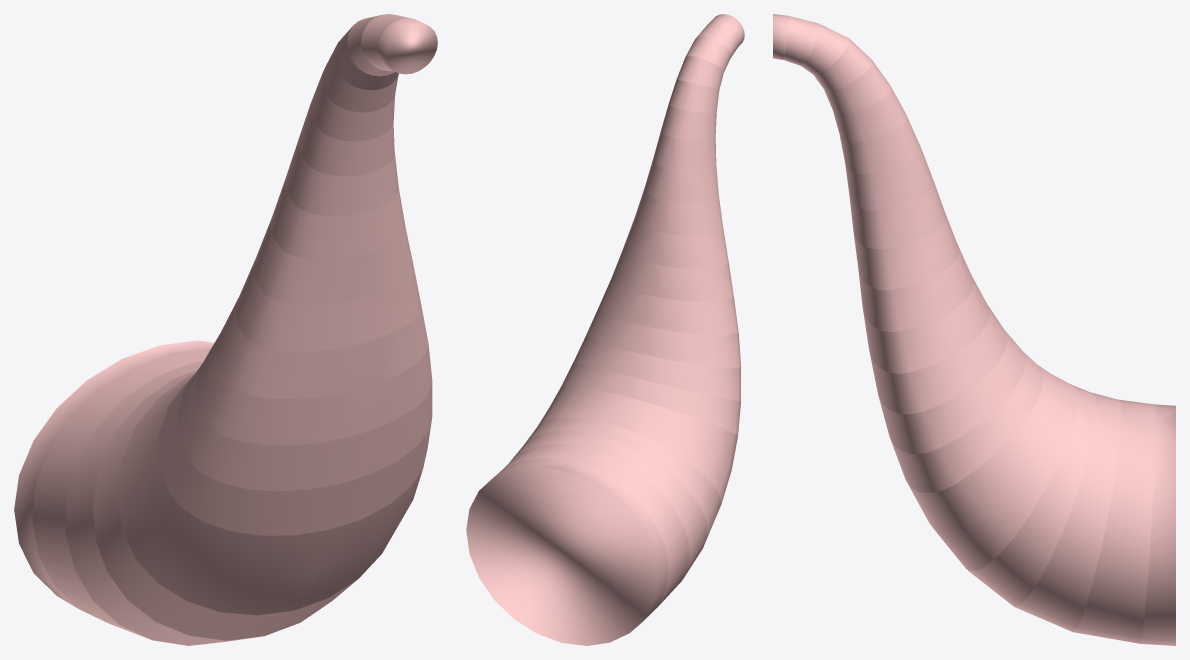
The model's file is original-2.obj.
3 renders of one model, left to right at view 1: azimuth 30°, elevation 25°; view 2: azimuth 150°, elevation 25°; view 3: azimuth 270°, elevation 25°, orthographic. The views are drawn at different scales.
Visible parts, largest first — view 1: Group2/mesh1/mesh1-geometry#mesh1-geometry; view 2: Group2/mesh1/mesh1-geometry#mesh1-geometry; view 3: Group2/mesh1/mesh1-geometry#mesh1-geometry.
Boxes of the visible parts, x1,y1,x2,y2 form: Group2/mesh1/mesh1-geometry#mesh1-geometry: [14, 14, 437, 645]; Group2/mesh1/mesh1-geometry#mesh1-geometry: [466, 14, 744, 645]; Group2/mesh1/mesh1-geometry#mesh1-geometry: [773, 14, 1175, 645].
Size of the model in its own units: 0.2807 by 0.7103 by 0.4211.
